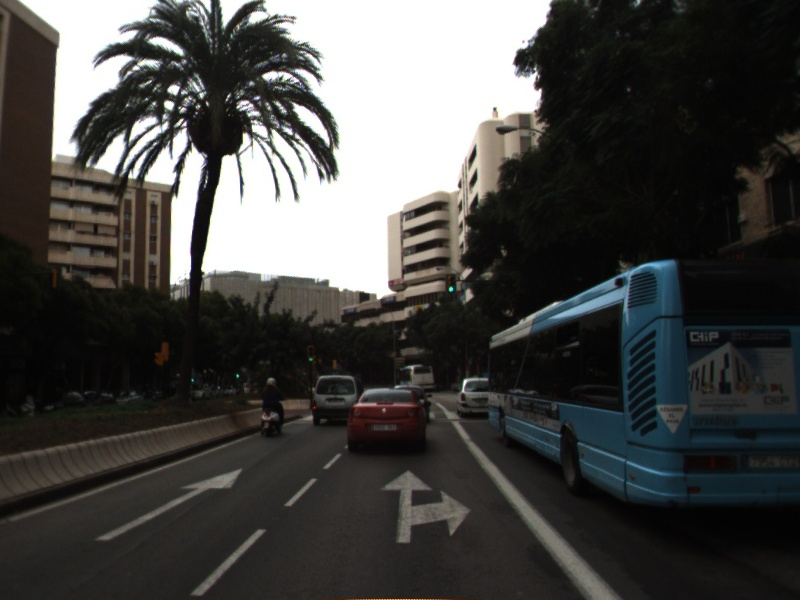STRAIGHT: (92, 466, 245, 543)
STRAIGHT_RIGHT: (377, 467, 474, 545)
